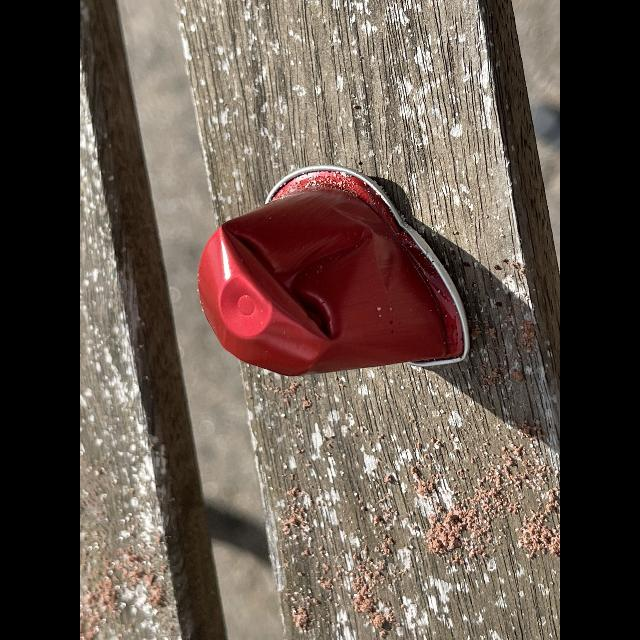damaged_capsule: (192, 154, 490, 408)
